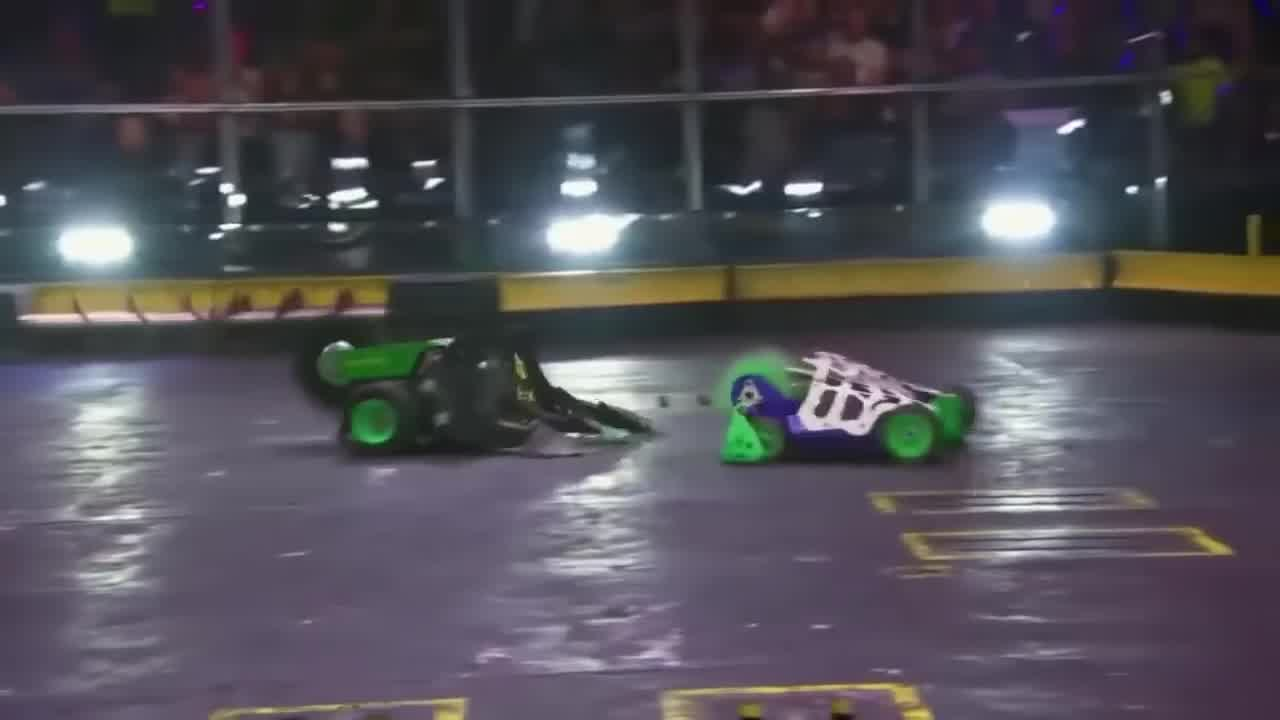combatbot: (291, 313, 571, 459), (708, 346, 979, 464)
